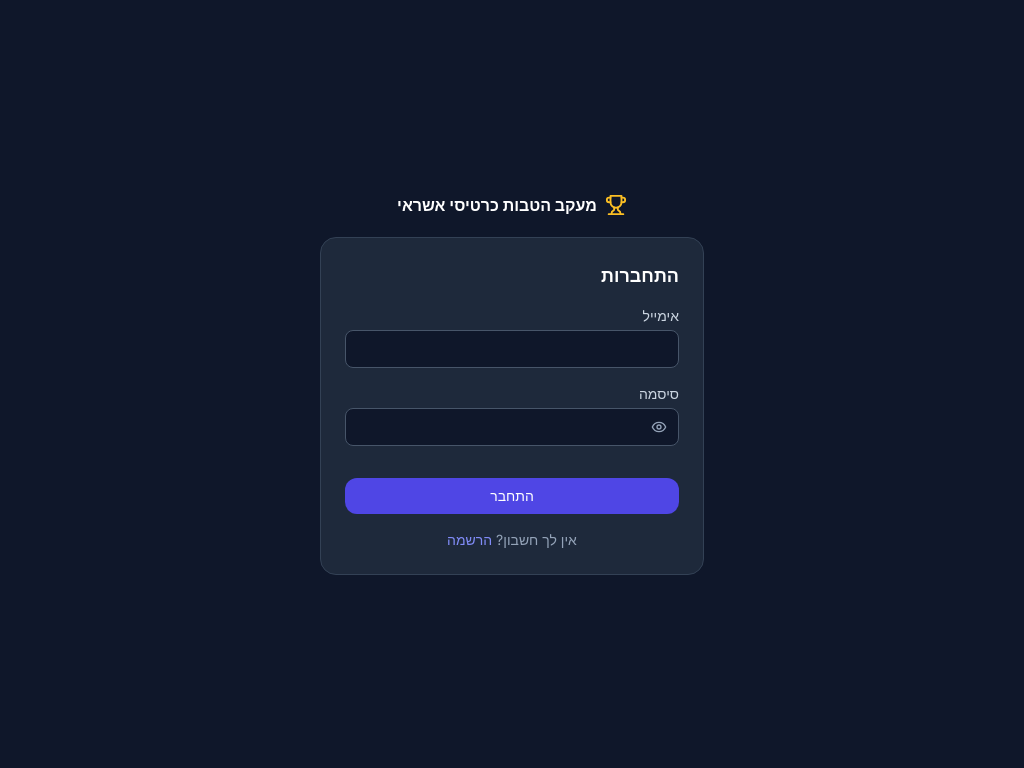
Scenario: cache isolation › login success wipes the whole query cache
The width and height of the screenshot is (1024, 768).
Expected: the heading "התחברות" is shown, [601,265,679,286]
In the field labelled "אימייל": (512, 349) [345,330,679,368], type "a@example.com"
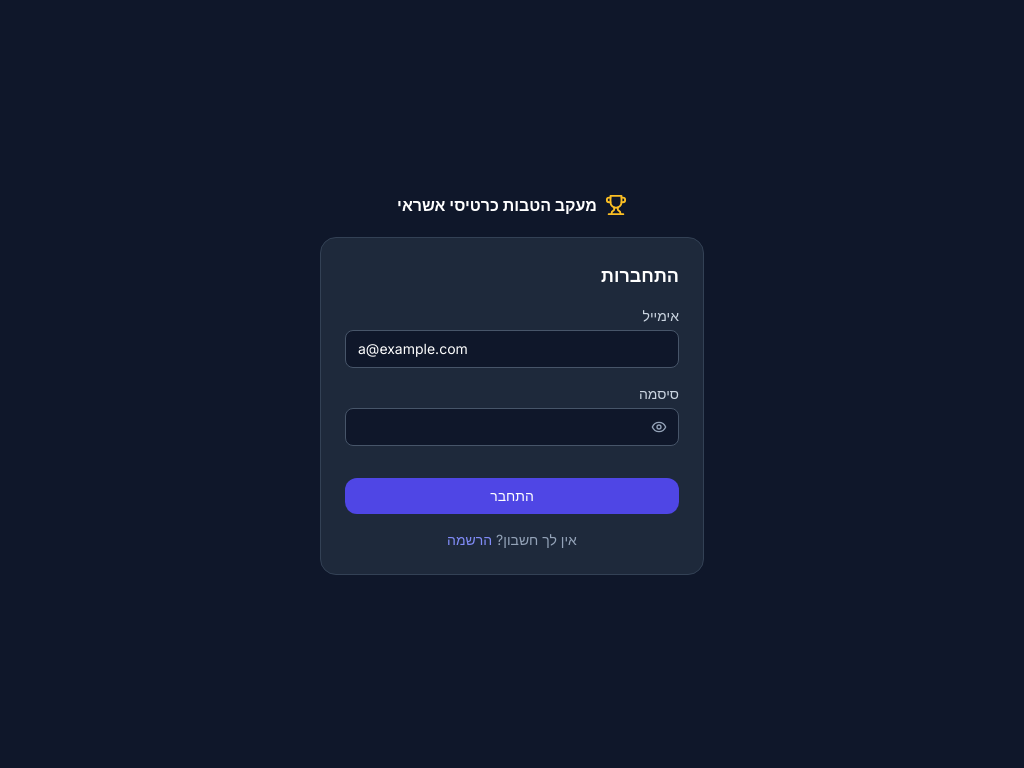
In the password field labelled "סיסמה": (512, 427) [345,408,679,446], type "correct horse battery"
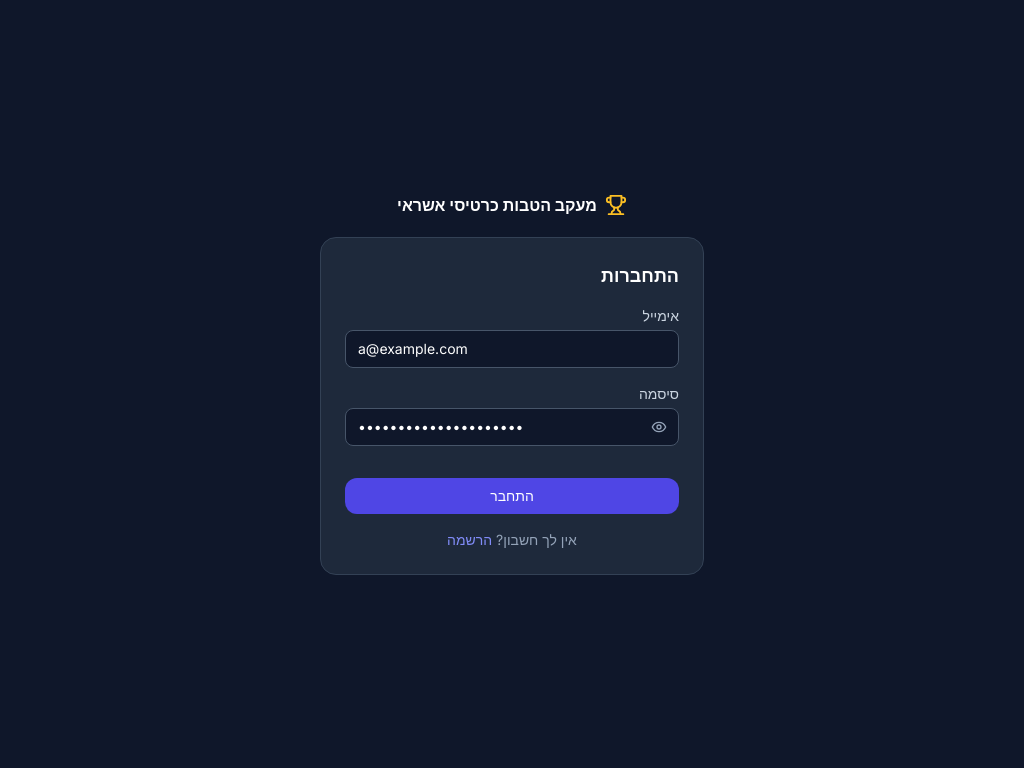
Click the button "התחבר": click(512, 496) [345,478,679,514]
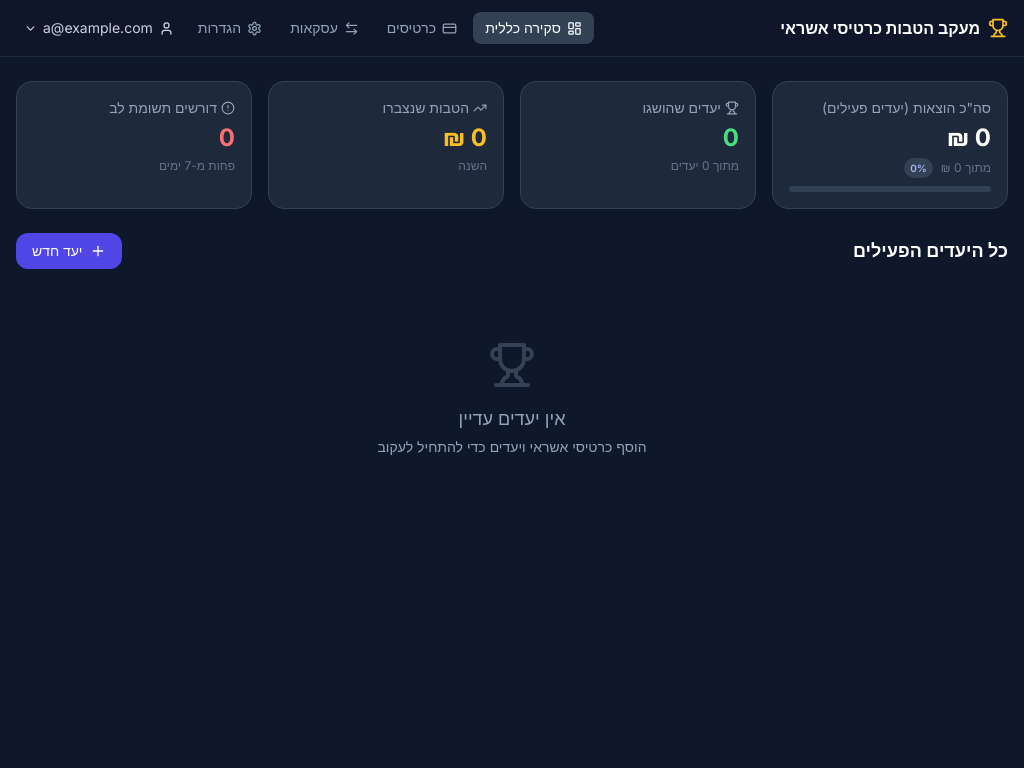
Result: the heading "התחברות" is gone
